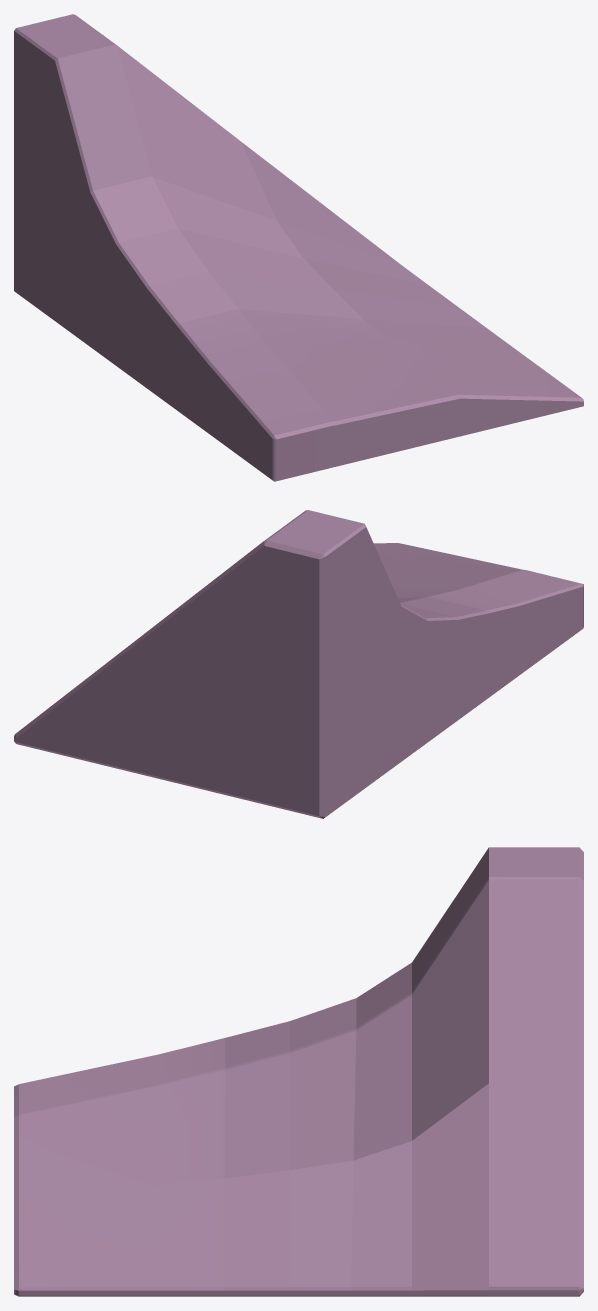
Rendered from mesh_bhpRampRightMod_v04.fbx.
3 views of the same model, one above another, from view 1: azimuth 30°, elevation 25°; view 2: azimuth 150°, elevation 25°; view 3: azimuth 270°, elevation 25° (orthographic). The views are drawn at different scales.
Visible parts, largest first — view 1: mesh_hpRampRightMod_v03; view 2: mesh_hpRampRightMod_v03; view 3: mesh_hpRampRightMod_v03.
Part boxes in pixels (box(x1,y1,x2,y2)): mesh_hpRampRightMod_v03: box(14, 14, 583, 481); mesh_hpRampRightMod_v03: box(14, 510, 583, 818); mesh_hpRampRightMod_v03: box(14, 847, 583, 1296).
Size of the model in its own units: 10.26 by 8.33 by 15.
